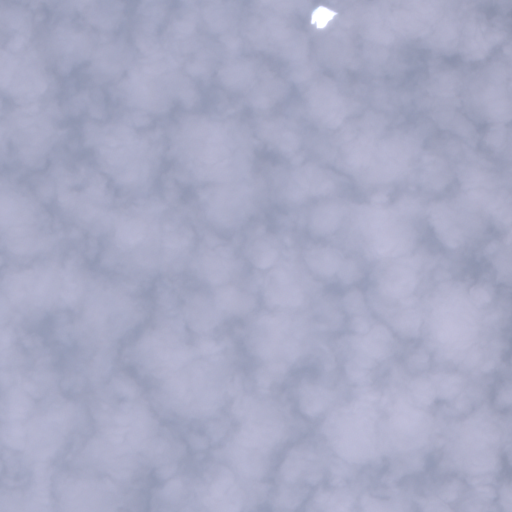Iceberg: (311, 6, 336, 27)
